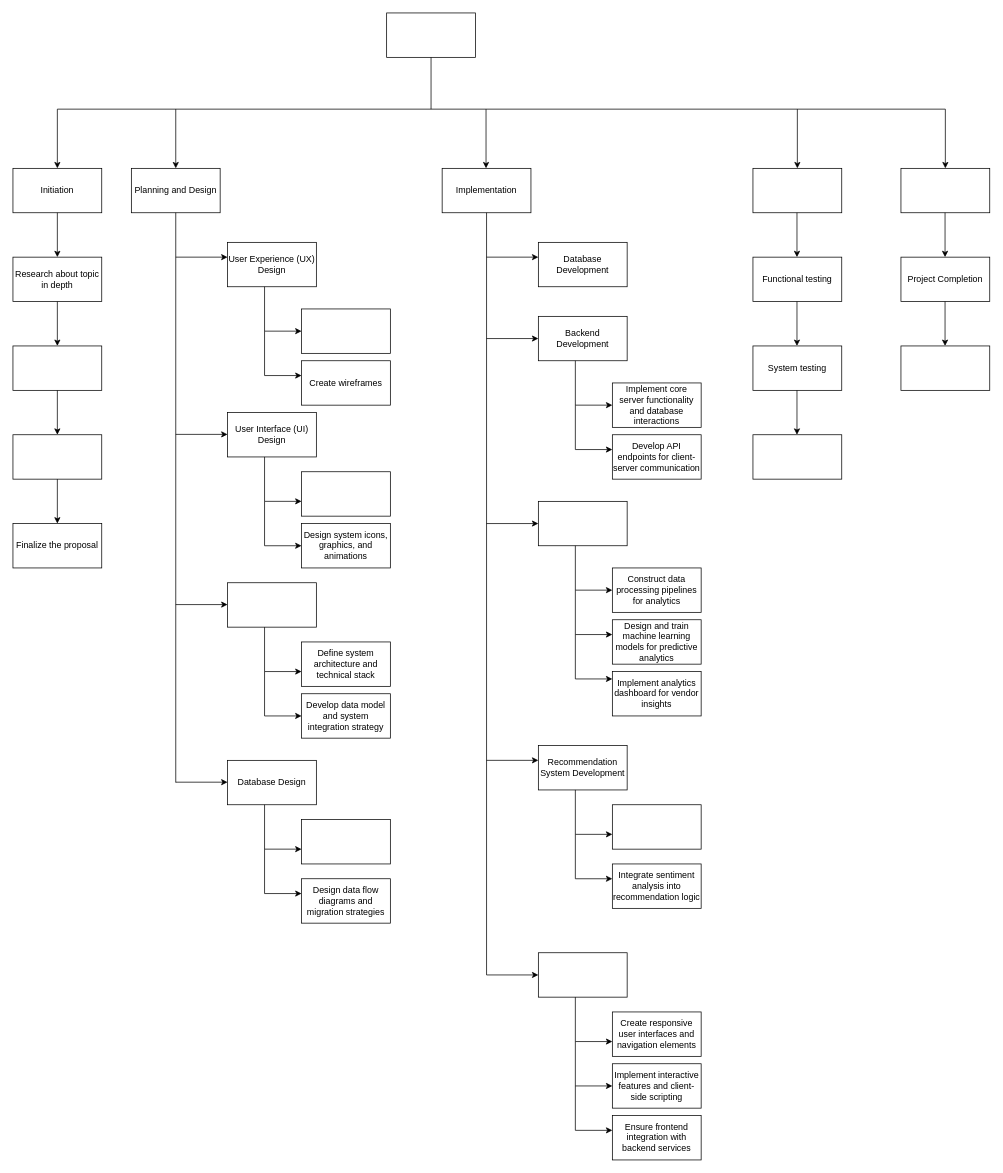
Image size: 1003x1173. Some labels were removed from this diagram. Here are the shapes that lost their labels. From the top down, the centre of each, then its label:
(430,34): Project VendorInsight
(797,190): Review and Retrospective
(945,190): Deployment
(345,330): Conduct user research
(57,367): Brainstorm Features and Requirements
(945,367): Future Enhancements
(57,456): Prepare required software and hardware resources
(797,456): Error and bugs troubleshooting
(345,493): Establish design language, including color and typography
(582,523): Analytics Development
(271,604): Technical Architecture
(345,841): Define database schema and entity relationships
(656,826): Build recommendation engine infrastructure
(582,974): Frontend Development
